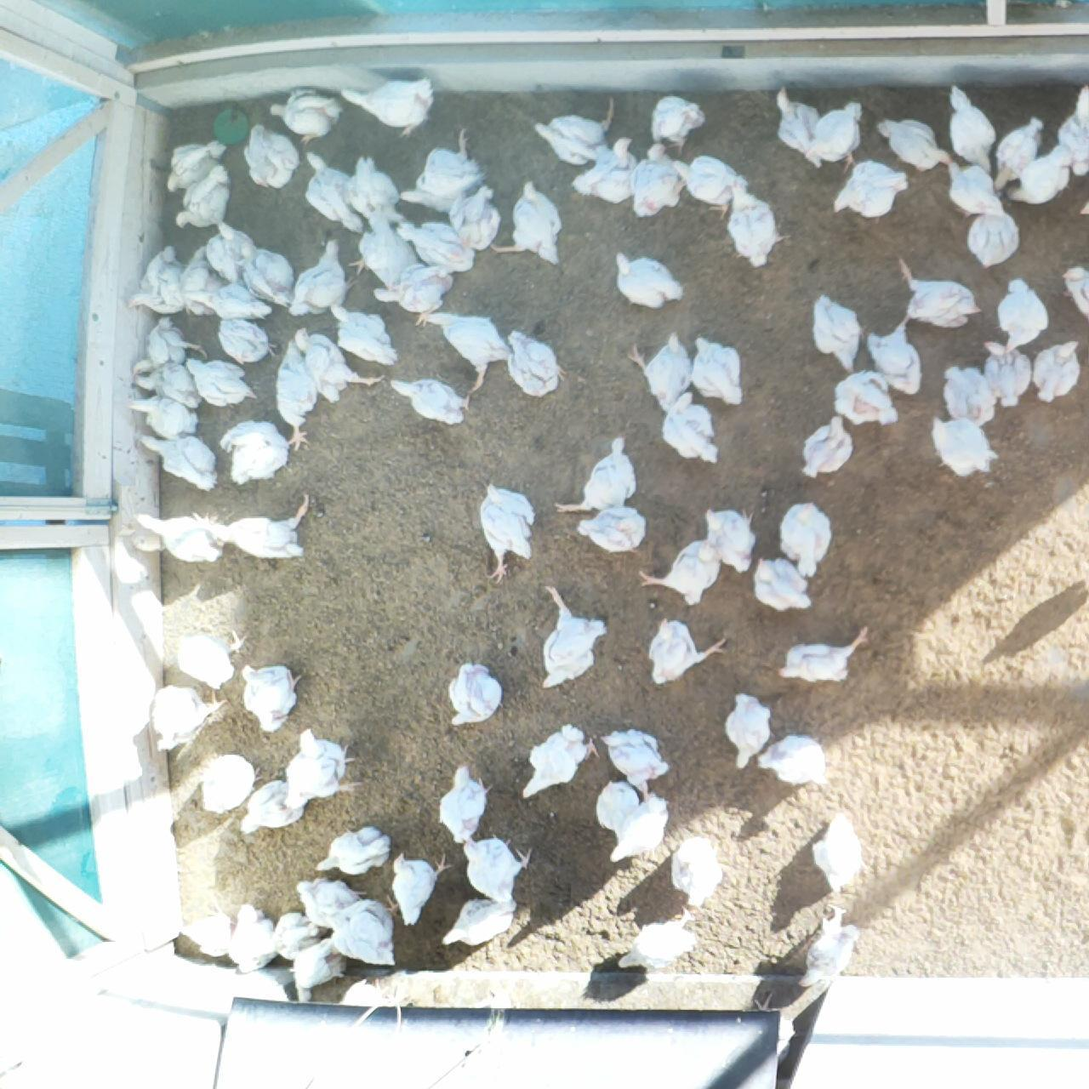chicken: (541, 577, 616, 696), (205, 489, 319, 566), (496, 171, 569, 278), (474, 484, 539, 589), (551, 436, 636, 516), (402, 130, 482, 214), (424, 312, 510, 388), (828, 154, 914, 230), (295, 328, 382, 402), (295, 148, 364, 235), (773, 626, 872, 686), (898, 263, 984, 330), (640, 535, 720, 607), (531, 99, 615, 165), (142, 684, 220, 755), (650, 618, 726, 690), (282, 729, 353, 805), (275, 332, 319, 454), (289, 237, 354, 319), (726, 183, 785, 272), (503, 325, 570, 403), (445, 660, 510, 740), (345, 78, 433, 137), (522, 727, 593, 800), (795, 911, 857, 994), (460, 840, 538, 905), (353, 218, 421, 292), (267, 84, 348, 146), (326, 901, 399, 969), (329, 302, 405, 367), (572, 133, 636, 209), (385, 377, 479, 428), (373, 267, 454, 326), (398, 212, 475, 274), (391, 852, 454, 927), (661, 392, 723, 468), (218, 417, 285, 487), (607, 800, 678, 866), (137, 436, 221, 490), (814, 813, 866, 900), (135, 510, 221, 562), (631, 333, 692, 406), (242, 660, 302, 734), (938, 362, 1005, 428), (616, 918, 696, 973), (871, 311, 921, 399), (570, 505, 656, 556), (239, 122, 299, 195), (673, 156, 746, 216), (603, 726, 666, 795), (946, 88, 999, 170), (723, 692, 774, 776), (781, 498, 832, 582), (613, 255, 693, 308), (928, 413, 993, 478), (170, 629, 239, 690), (631, 143, 687, 218), (197, 748, 260, 814), (439, 766, 490, 847), (811, 97, 870, 167), (346, 148, 400, 224), (126, 246, 182, 319), (797, 414, 855, 484), (810, 294, 862, 372), (773, 89, 822, 171), (186, 353, 259, 408), (639, 91, 713, 145), (132, 320, 202, 377), (234, 781, 303, 838), (755, 734, 829, 787), (311, 827, 392, 875), (439, 899, 518, 948), (587, 780, 654, 837), (994, 116, 1044, 192), (882, 118, 955, 170), (125, 389, 201, 438), (707, 506, 758, 579), (1009, 143, 1072, 202), (240, 239, 292, 310), (693, 335, 744, 407), (663, 840, 718, 906), (162, 141, 231, 193), (986, 334, 1032, 410), (130, 361, 203, 408), (174, 169, 231, 229), (942, 162, 1003, 218), (836, 374, 901, 426), (998, 279, 1044, 352), (294, 874, 356, 928), (227, 905, 274, 976), (1033, 339, 1085, 403), (450, 186, 500, 252), (969, 203, 1018, 269), (751, 559, 813, 611), (172, 910, 232, 961), (217, 315, 274, 366), (292, 940, 339, 1001), (209, 219, 252, 284), (182, 249, 218, 324), (1058, 88, 1089, 173), (204, 286, 272, 322), (270, 911, 319, 960), (1063, 261, 1089, 328), (1073, 198, 1089, 220)
